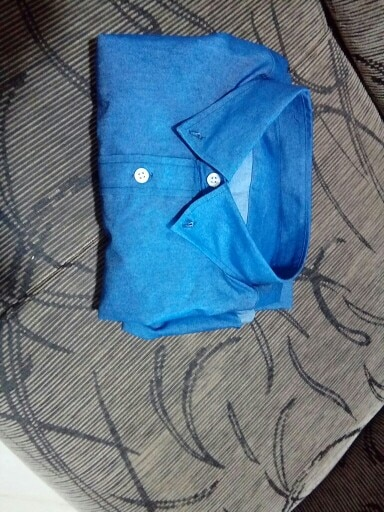shirts: (95, 37, 308, 340)
